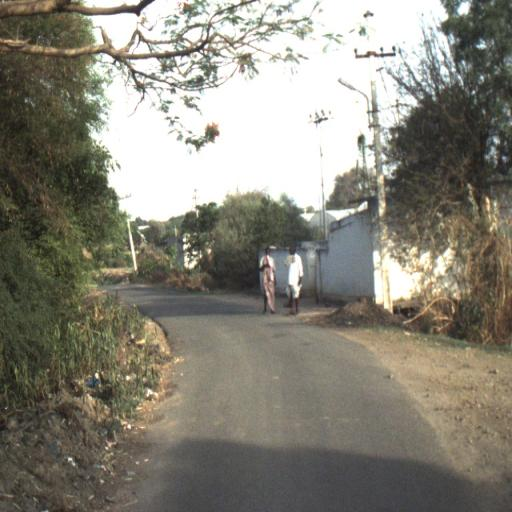street_light_0: (338, 77, 381, 132)
